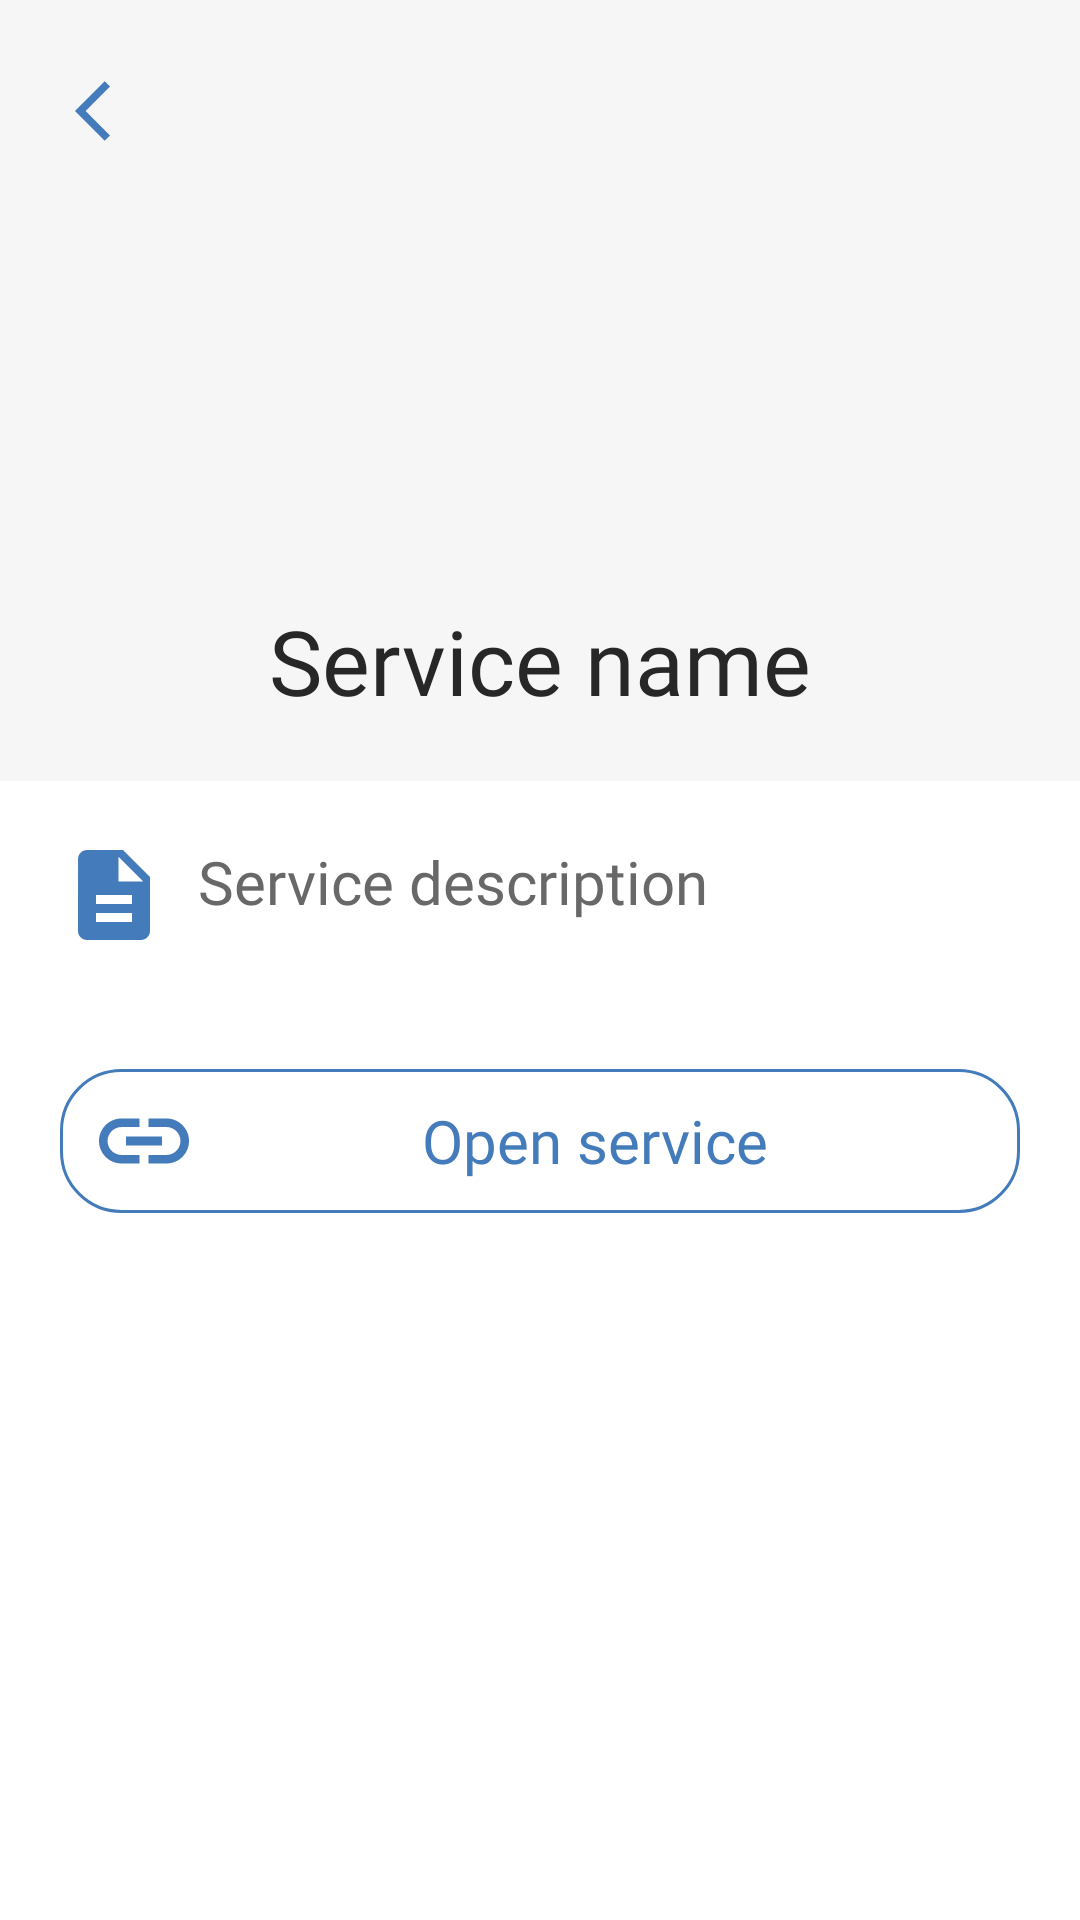

Icons on this 1080px×1920px Android screen, each with its box as box(x1, y1, x2, y2):
arrow back: box(75, 81, 110, 141)
